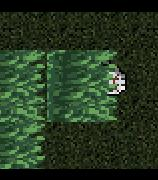Jason: (98, 60, 128, 94)
Slow: (47, 50, 117, 120), (0, 50, 45, 120), (0, 121, 45, 169)
